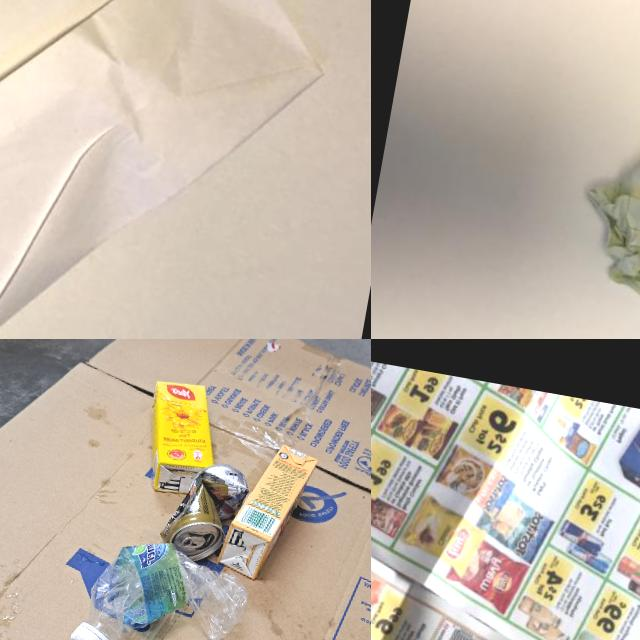caixinha: (214, 439, 315, 588), (138, 377, 226, 498)
garrafa plástica: (63, 534, 251, 640)
lata: (160, 458, 248, 564)
papel: (0, 0, 340, 339), (371, 339, 640, 640), (562, 124, 640, 339)
papelão: (0, 339, 371, 640)
tampa plástica: (64, 616, 116, 640)
